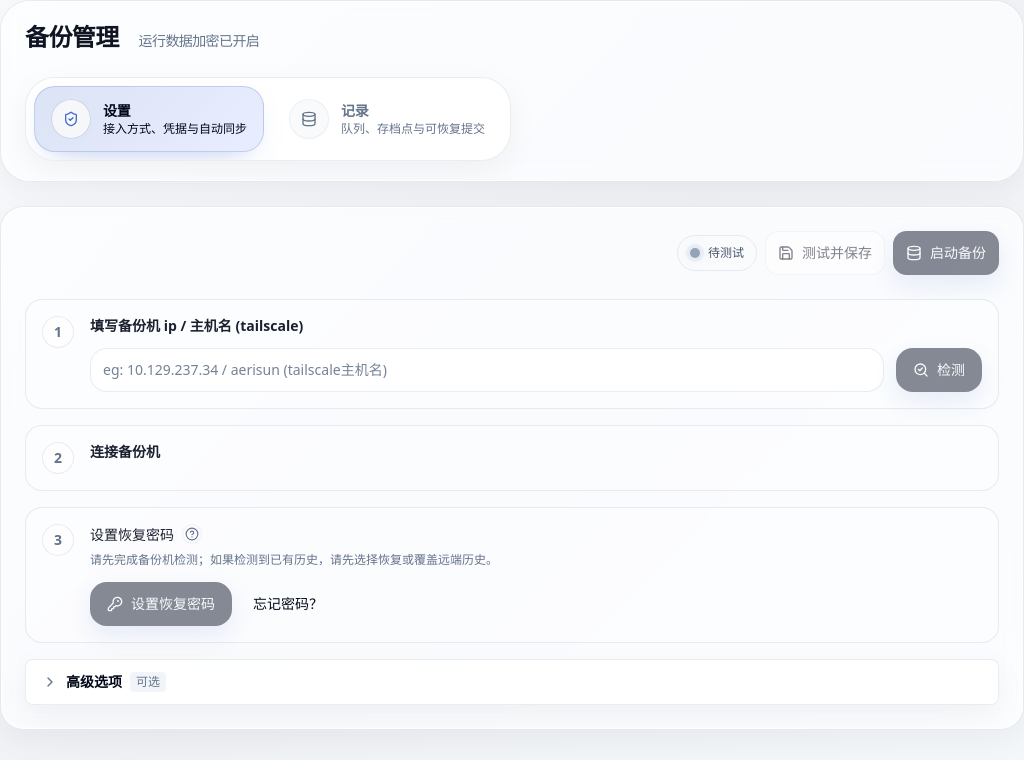
Test case: BackupsPage usability › requires an explicit overwrite choice before setting a password for foreign history
Type "backup.example.com" into the field with placeholder "eg: 10.129.237.34 / aerisun (tailscale主机名)".
click(487, 370); type("backup.example.com")  # box [90, 348, 884, 392]
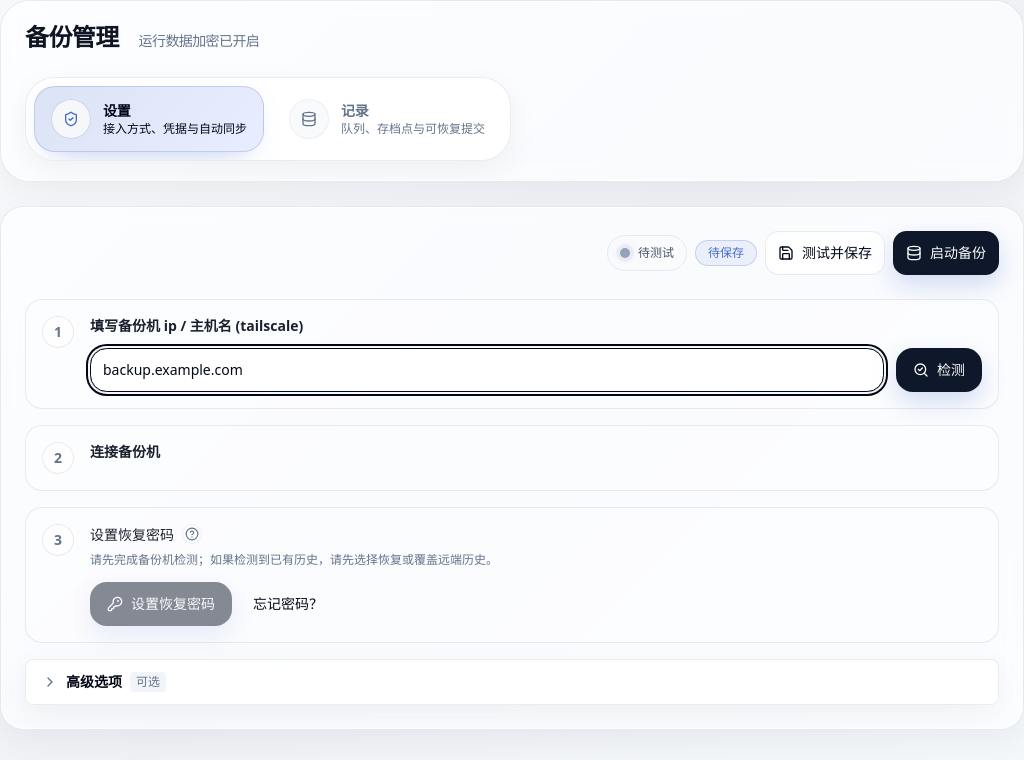
Click the button "检测".
click(939, 370)  # box [896, 348, 982, 392]
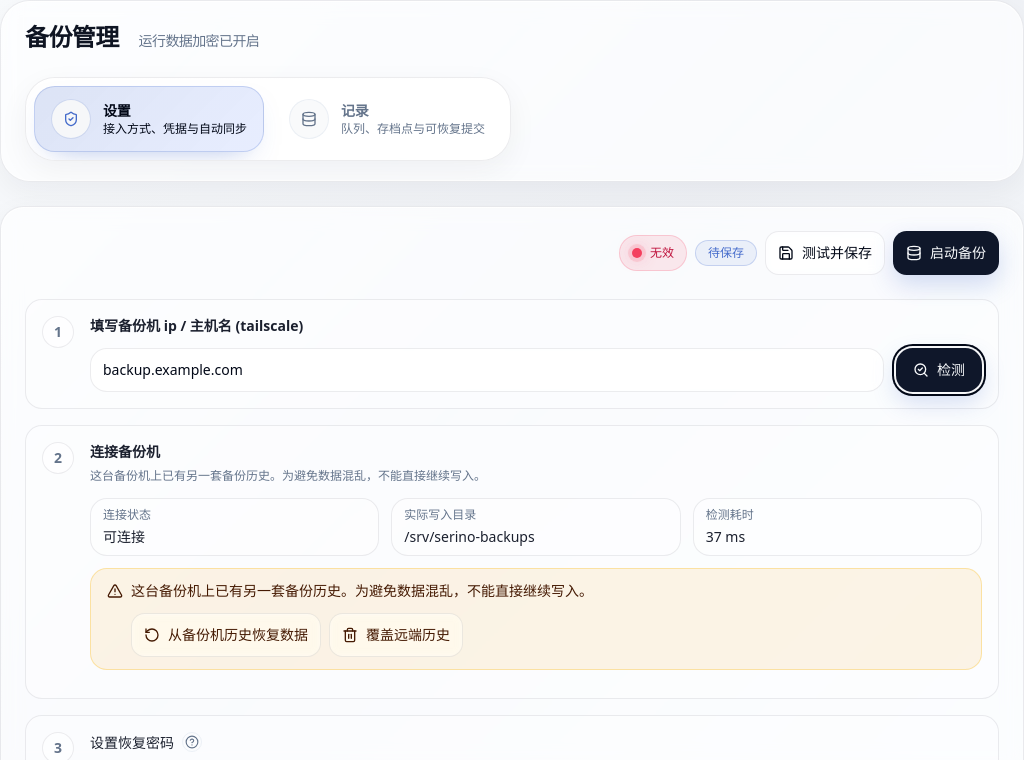
Now the button "覆盖远端历史" is shown
Now the text "无效" is shown, box [650, 245, 674, 261]
Click the button "覆盖远端历史".
click(396, 635)  # box [329, 613, 463, 657]
(page scrolled)
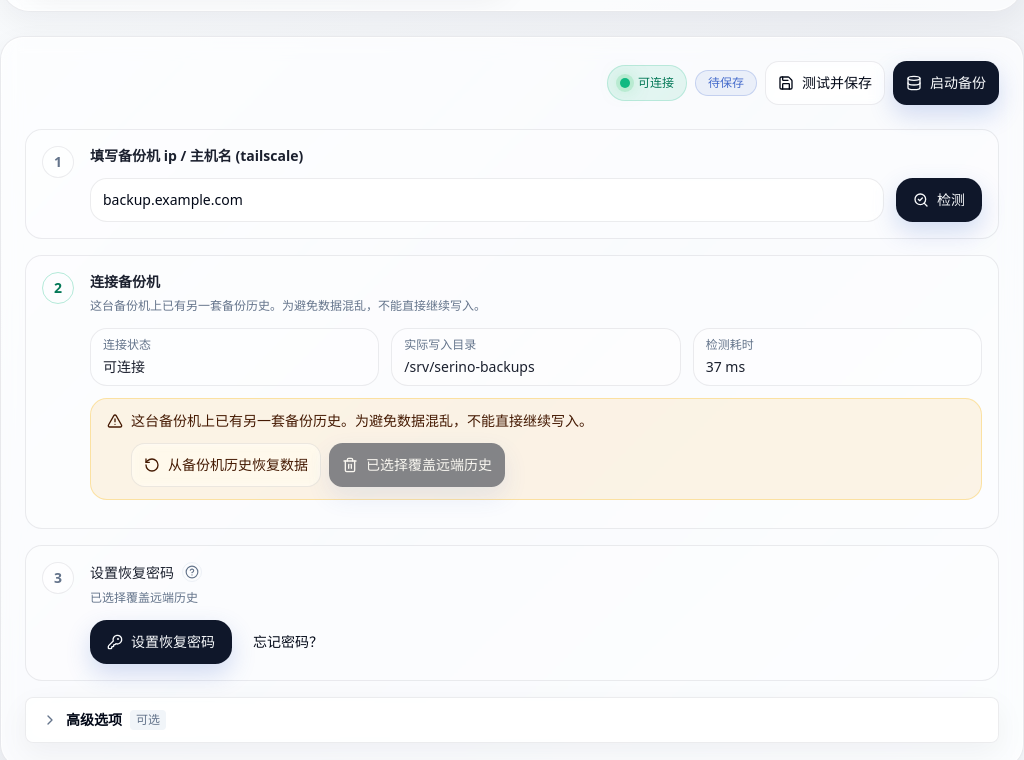
Now the button "设置恢复密码" is enabled, box [90, 620, 232, 664]
